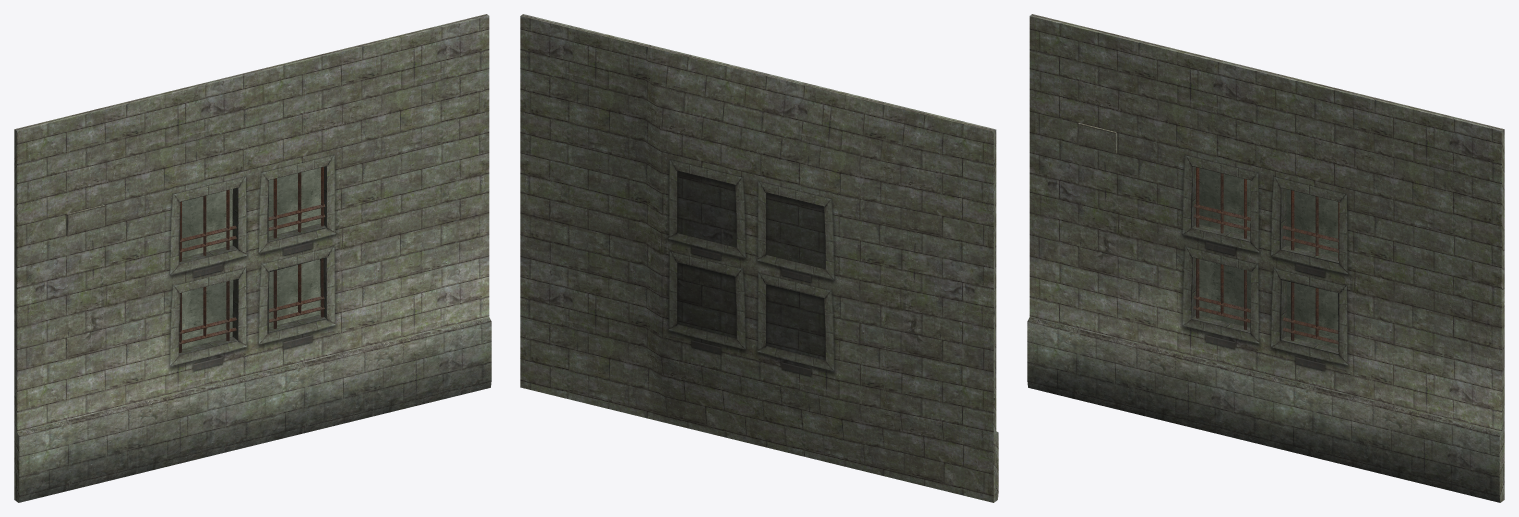
File: walltombsground.fbx
The picture shows the model from 3 angles, left to right: view 1: azimuth 30°, elevation 25°; view 2: azimuth 150°, elevation 25°; view 3: azimuth 330°, elevation 25°; orthographic projection.
Visible parts, largest first — view 1: Mesh Object; view 2: Mesh Object; view 3: Mesh Object.
Part boxes in pixels (box(x1,y1,x2,y2)): Mesh Object: box(14, 14, 491, 502); Mesh Object: box(520, 14, 998, 502); Mesh Object: box(1027, 14, 1504, 502).
Size of the model in its own units: 4 by 3 by 0.1586.
